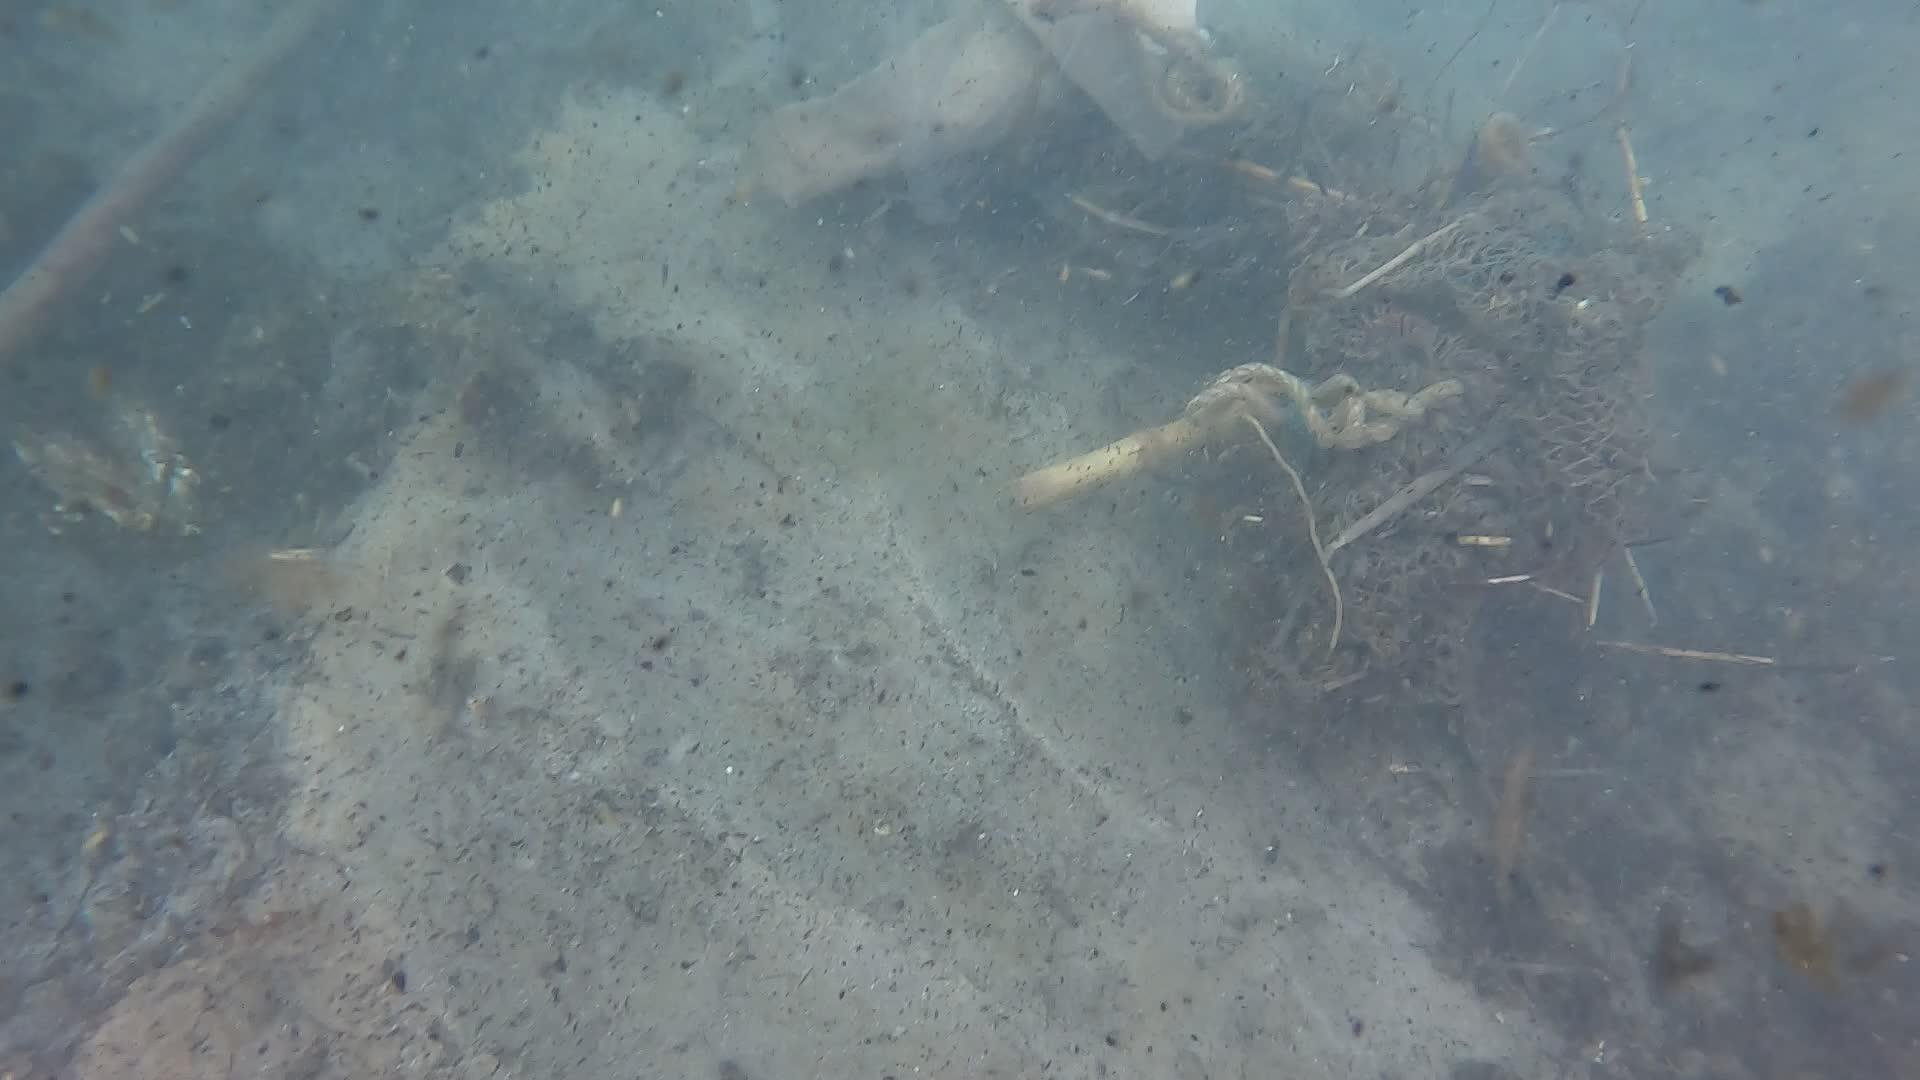bundle of ropes: (1178, 357, 1472, 458)
